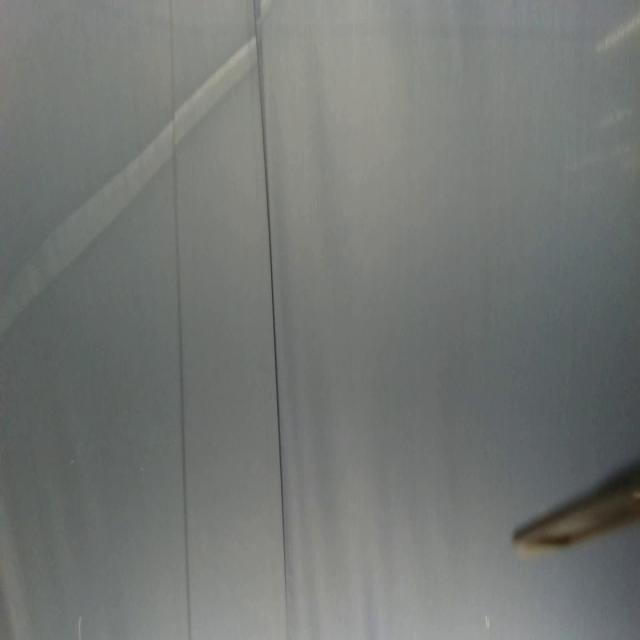crease: (0, 37, 258, 346), (251, 0, 291, 639), (168, 0, 193, 636)
hole: (485, 614, 491, 630)
